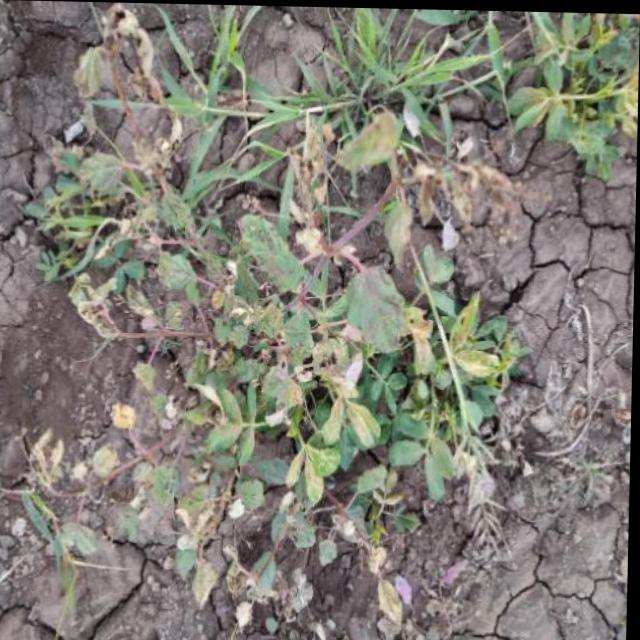weed: (29, 120, 548, 595), (204, 10, 640, 168)
